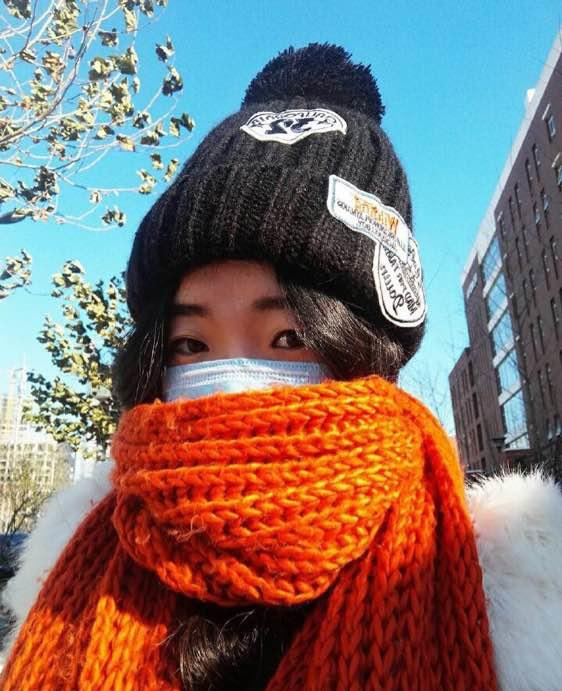OK: (135, 285, 345, 495)
